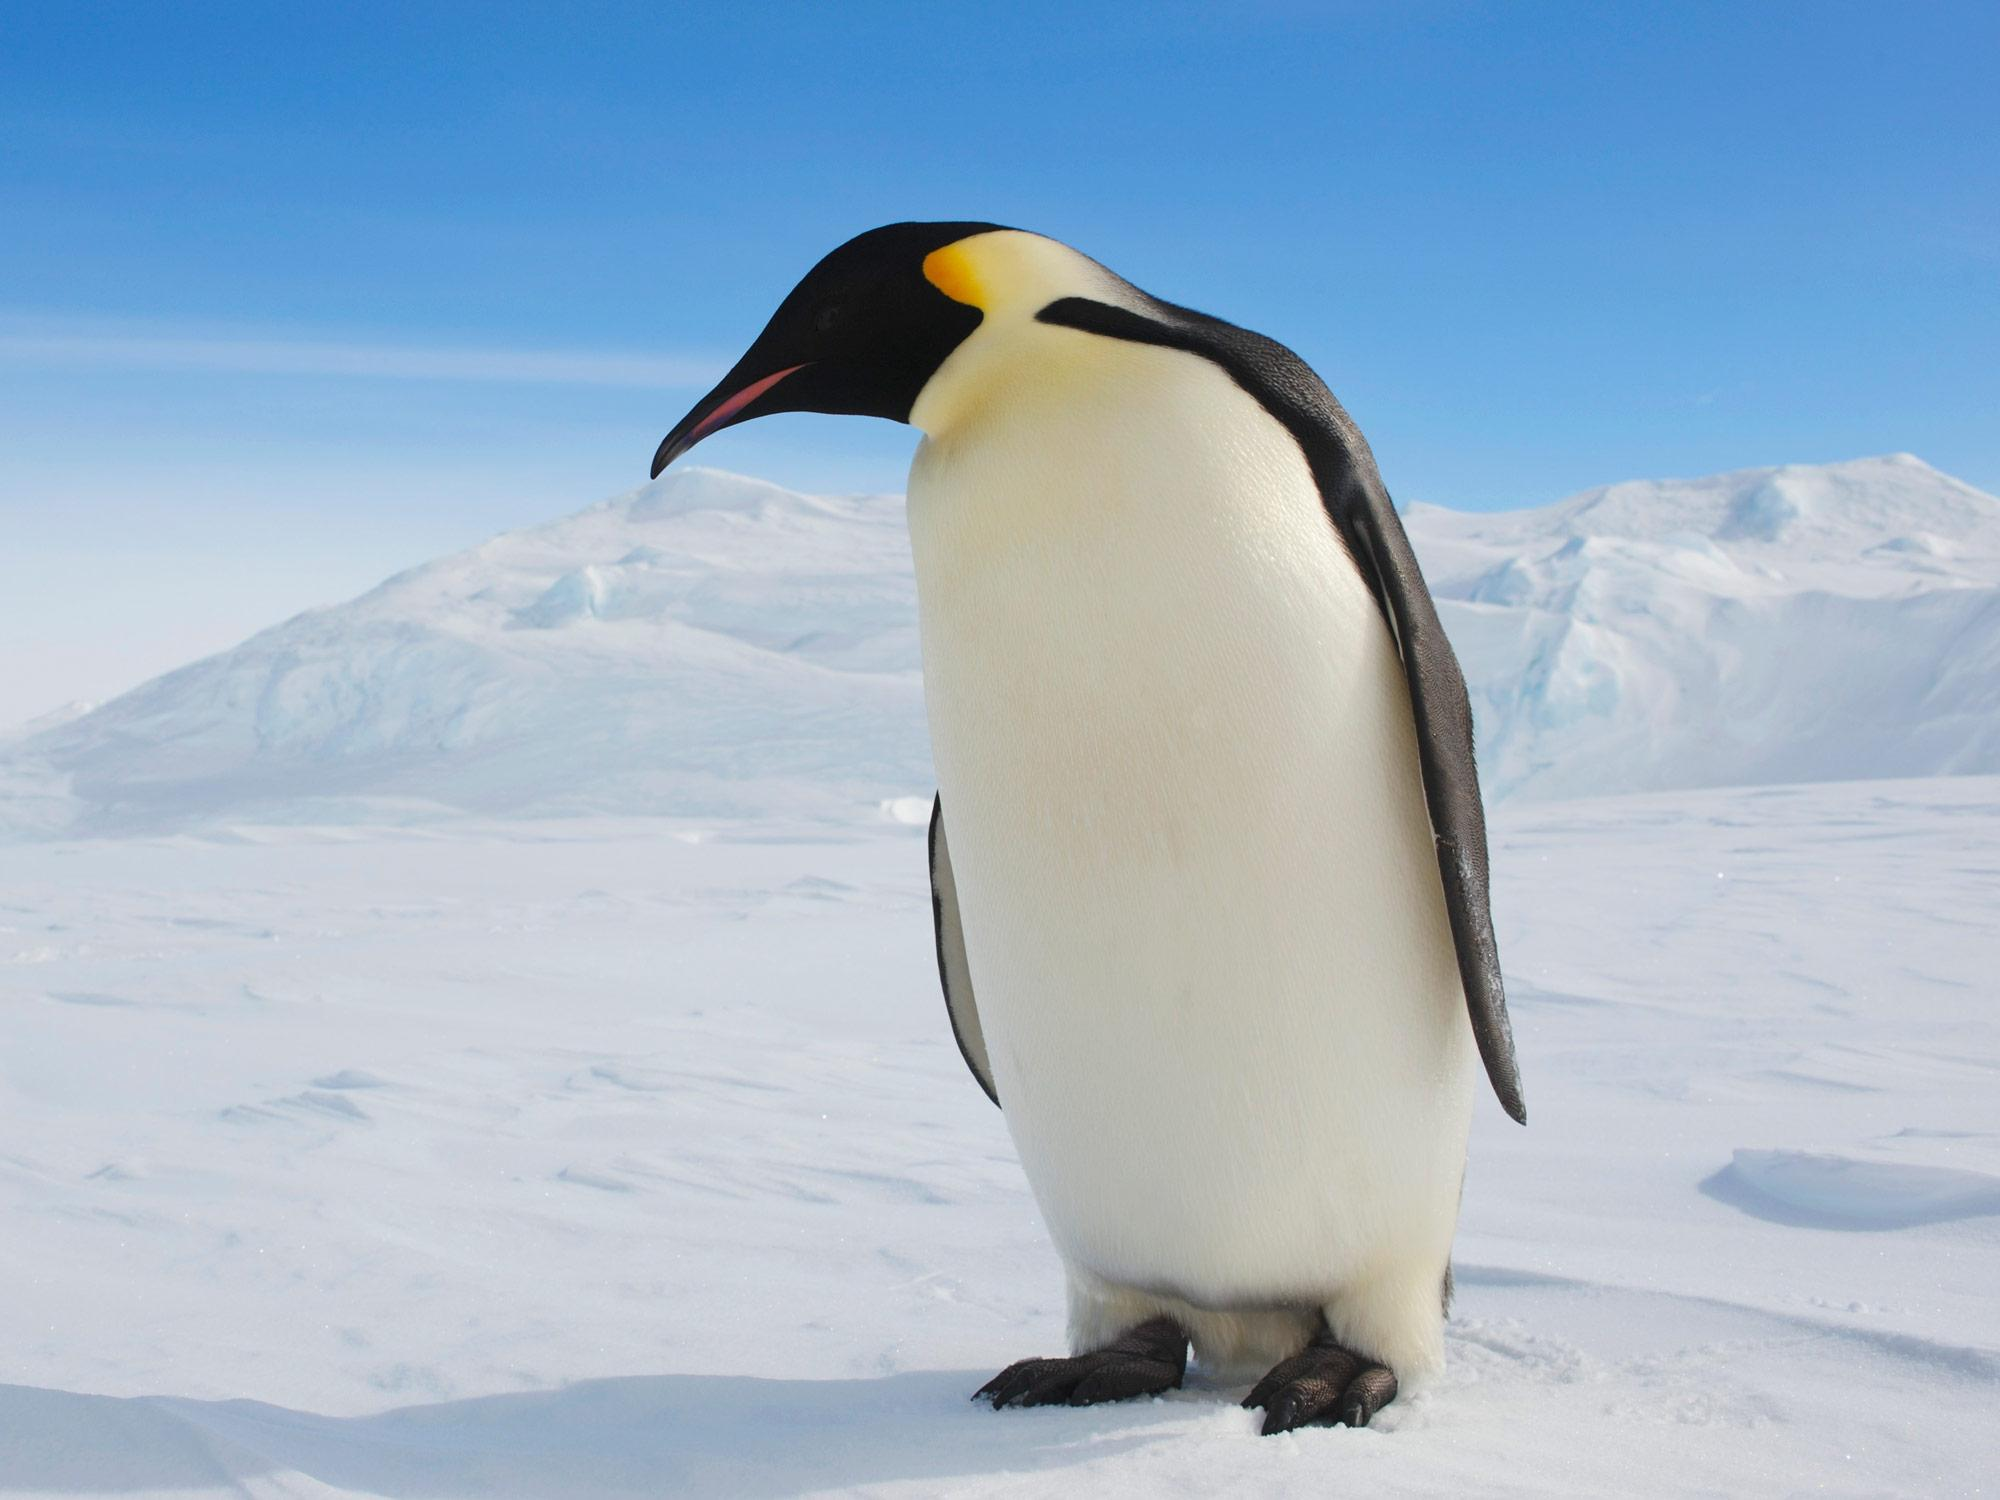emporer: (608, 150, 1620, 1446)
